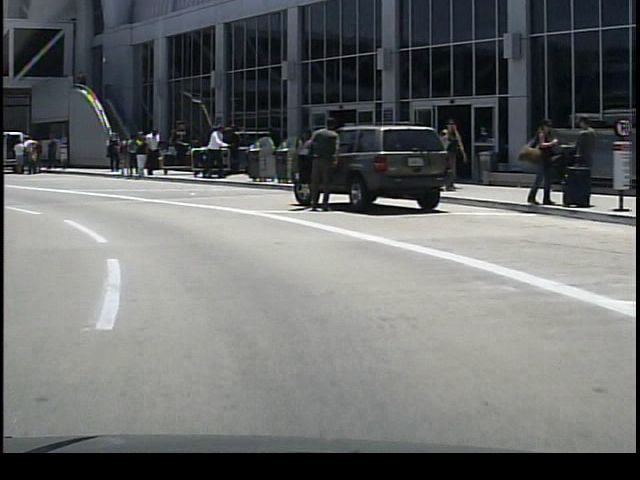person: (299, 116, 339, 219), (517, 117, 554, 208), (562, 113, 598, 205), (438, 116, 467, 195), (202, 121, 227, 182), (128, 130, 149, 180), (40, 129, 62, 176), (22, 132, 42, 176), (99, 130, 118, 175), (144, 125, 160, 178), (8, 138, 26, 178)
